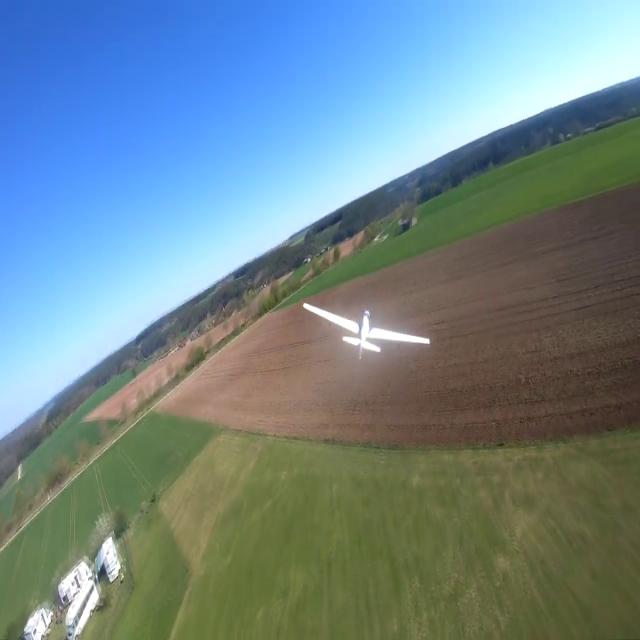iha: (337, 322, 397, 324)
